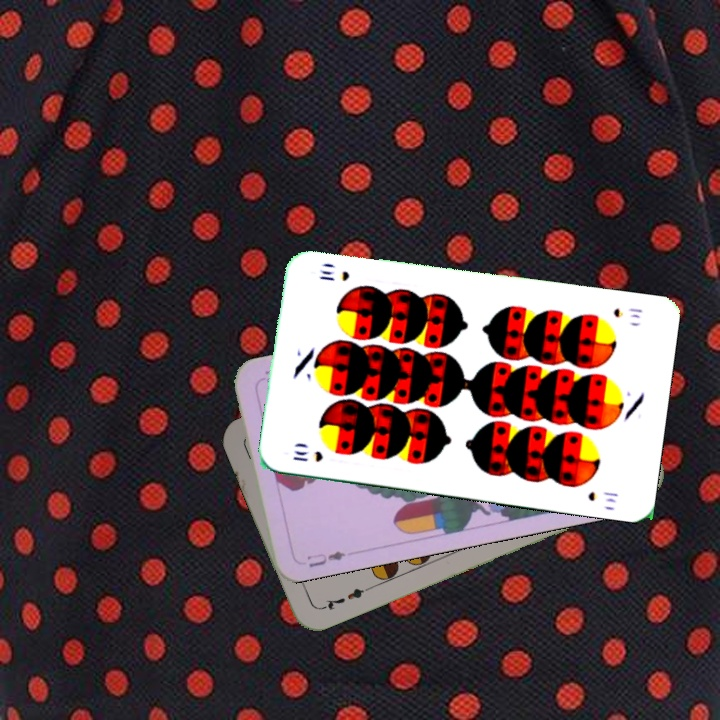E7: (315, 584, 372, 613)
EU: (302, 547, 348, 570)
S10: (289, 446, 326, 465), (609, 303, 645, 321)
